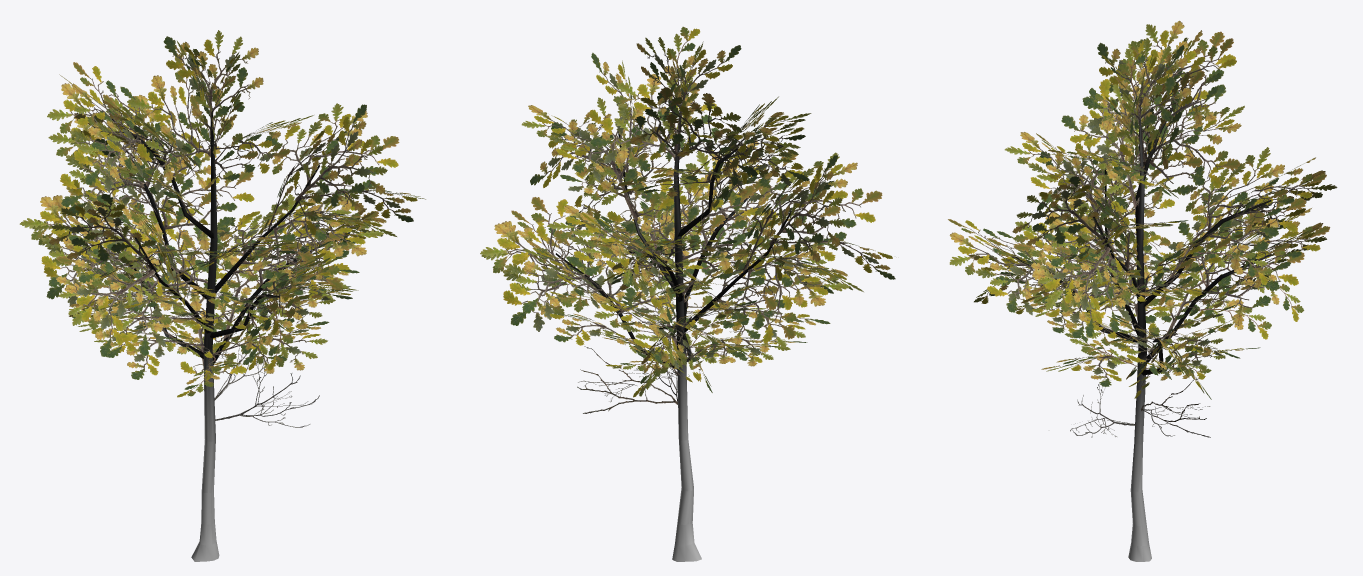
Rendered from PW_Tree_Oak_Small_01.fbx.
3 views of the same model, side by side, from view 1: azimuth 30°, elevation 25°; view 2: azimuth 150°, elevation 25°; view 3: azimuth 270°, elevation 25° (orthographic).
Parts seen in each view (by area): view 1: PW_Tree_Oak_Small_01_LOD0; view 2: PW_Tree_Oak_Small_01_LOD0; view 3: PW_Tree_Oak_Small_01_LOD0.
Part boxes in pixels (x1,y1,x2,y2): PW_Tree_Oak_Small_01_LOD0: (19, 30, 425, 561); PW_Tree_Oak_Small_01_LOD0: (480, 26, 895, 561); PW_Tree_Oak_Small_01_LOD0: (948, 20, 1337, 561).
Size of what is drawn, in the model's own units: 240 by 307 by 219.
